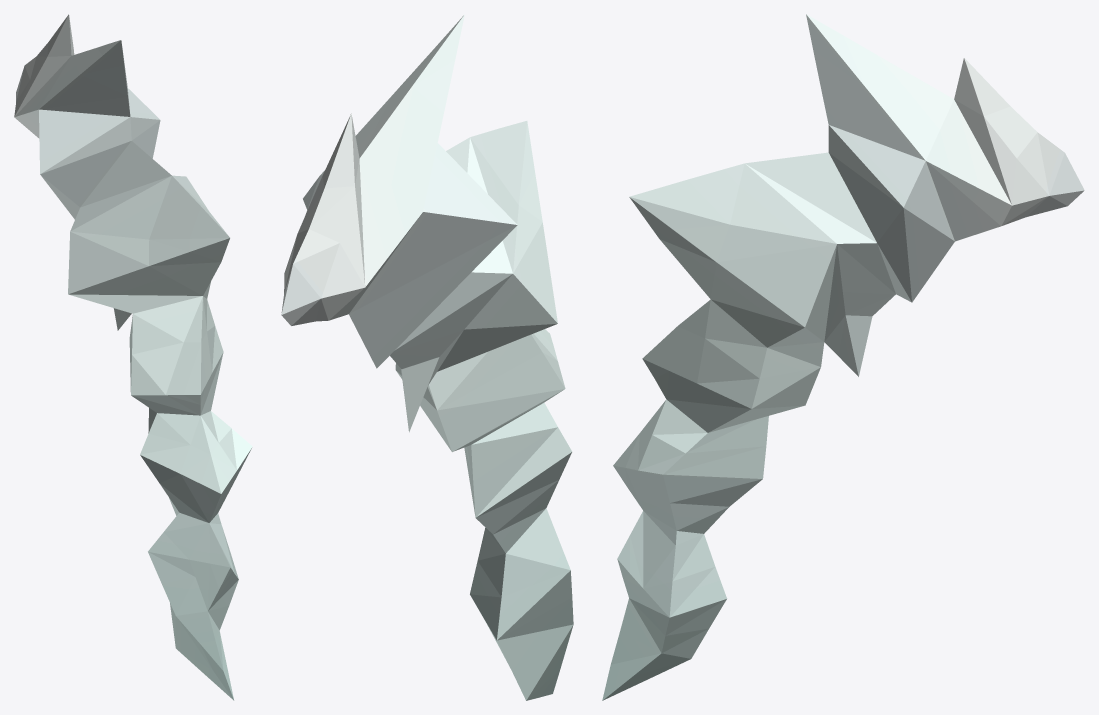
The model's file is CharSkyKid_Hair_ElderDusk.glb.
3 renders of one model, left to right at view 1: azimuth 30°, elevation 25°; view 2: azimuth 150°, elevation 25°; view 3: azimuth 270°, elevation 25°, orthographic. The views are drawn at different scales.
Parts seen in each view (by area): view 1: CharSkyKid_Hair_ElderDusk; view 2: CharSkyKid_Hair_ElderDusk; view 3: CharSkyKid_Hair_ElderDusk.
Boxes of the visible parts, <box> form: CharSkyKid_Hair_ElderDusk: <box>14,14,252,700</box>; CharSkyKid_Hair_ElderDusk: <box>281,14,573,700</box>; CharSkyKid_Hair_ElderDusk: <box>602,14,1084,700</box>.
Size of the model in its own units: 1.95 by 7.02 by 4.55.
Materials: 1 (1 with a texture image).
